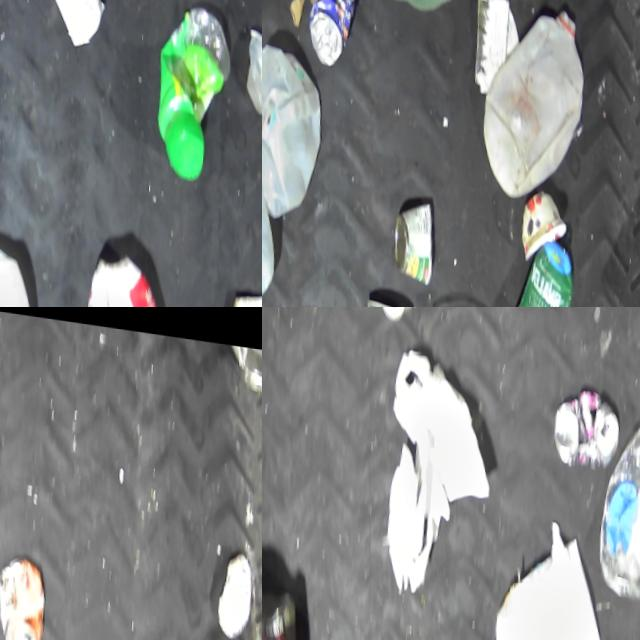can: (543, 377, 621, 470), (382, 189, 436, 284), (298, 0, 366, 71), (0, 546, 50, 640), (208, 542, 255, 637), (372, 307, 433, 323)
milk_jug: (465, 0, 594, 205), (262, 32, 330, 226)
plastic_bottle: (581, 400, 640, 600), (66, 246, 179, 307)
